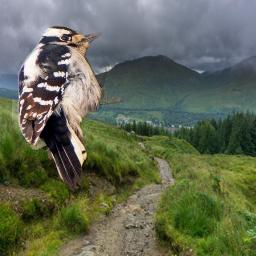Woodpecker: (12, 23, 124, 192)
